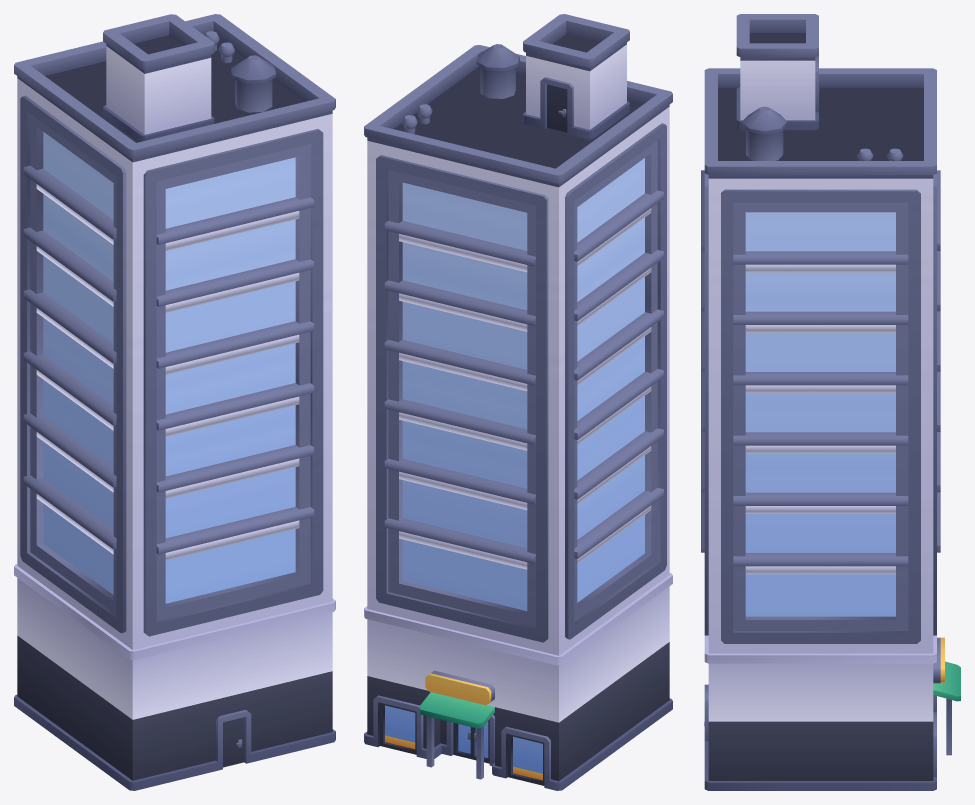
Rendered from neon_tower_c.glb.
The picture shows the model from 3 angles, left to right: view 1: azimuth 30°, elevation 25°; view 2: azimuth 150°, elevation 25°; view 3: azimuth 270°, elevation 25°; orthographic projection. The views are drawn at different scales.
Parts seen in each view (by area): view 1: building-skyscraper-c; view 2: building-skyscraper-c; view 3: building-skyscraper-c.
Part boxes in pixels (left/top/right/bottom): building-skyscraper-c: left=14, top=14, right=335, bottom=790; building-skyscraper-c: left=364, top=14, right=672, bottom=790; building-skyscraper-c: left=701, top=14, right=960, bottom=790.
Size of the model in its own units: 14.02 by 44.68 by 15.2.
Materials: 1 (1 with a texture image).
